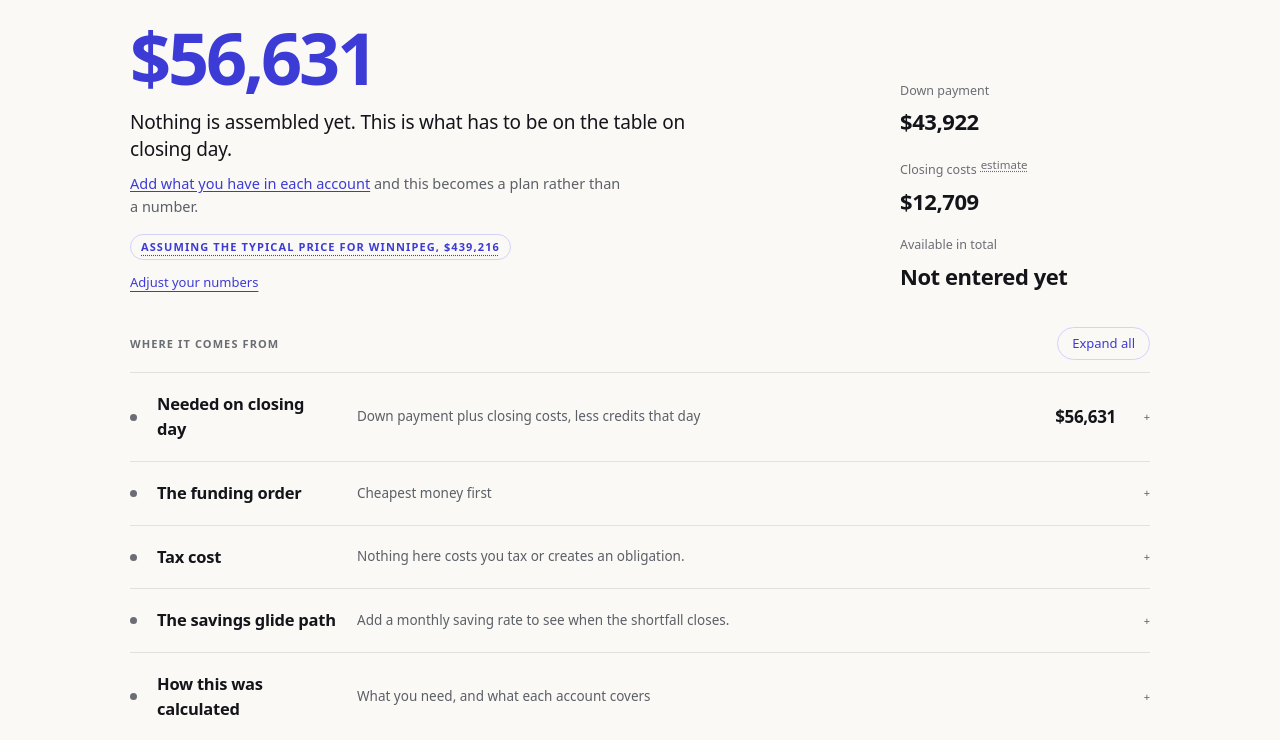
Scenario: Down payment — the waterfall › draws the free money first once balances are given
The image size is (1280, 740).
Click the button "The funding order Cheapest money first +".
click(229, 492)  # box top-left (130, 462), bottom-right (1150, 525)
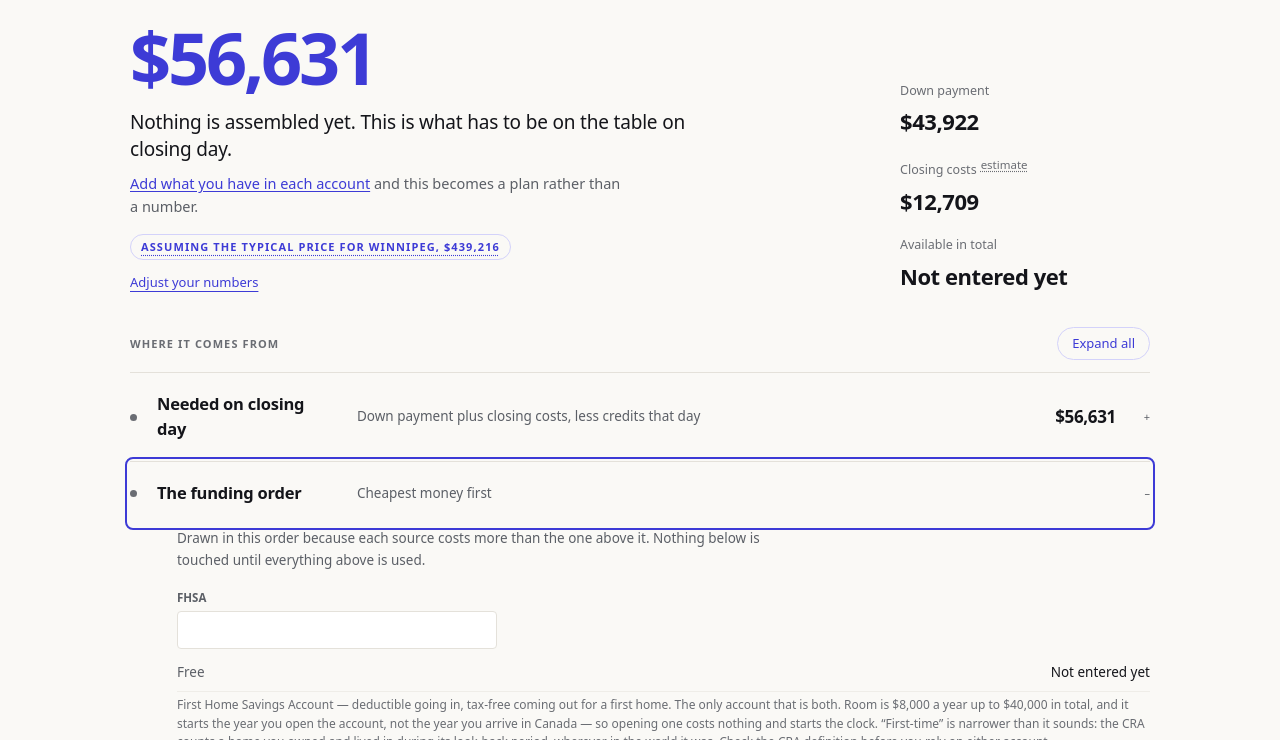
Type "40000" into the field labelled "FHSA".
click(337, 630); type("40000")  # box top-left (177, 610), bottom-right (497, 648)
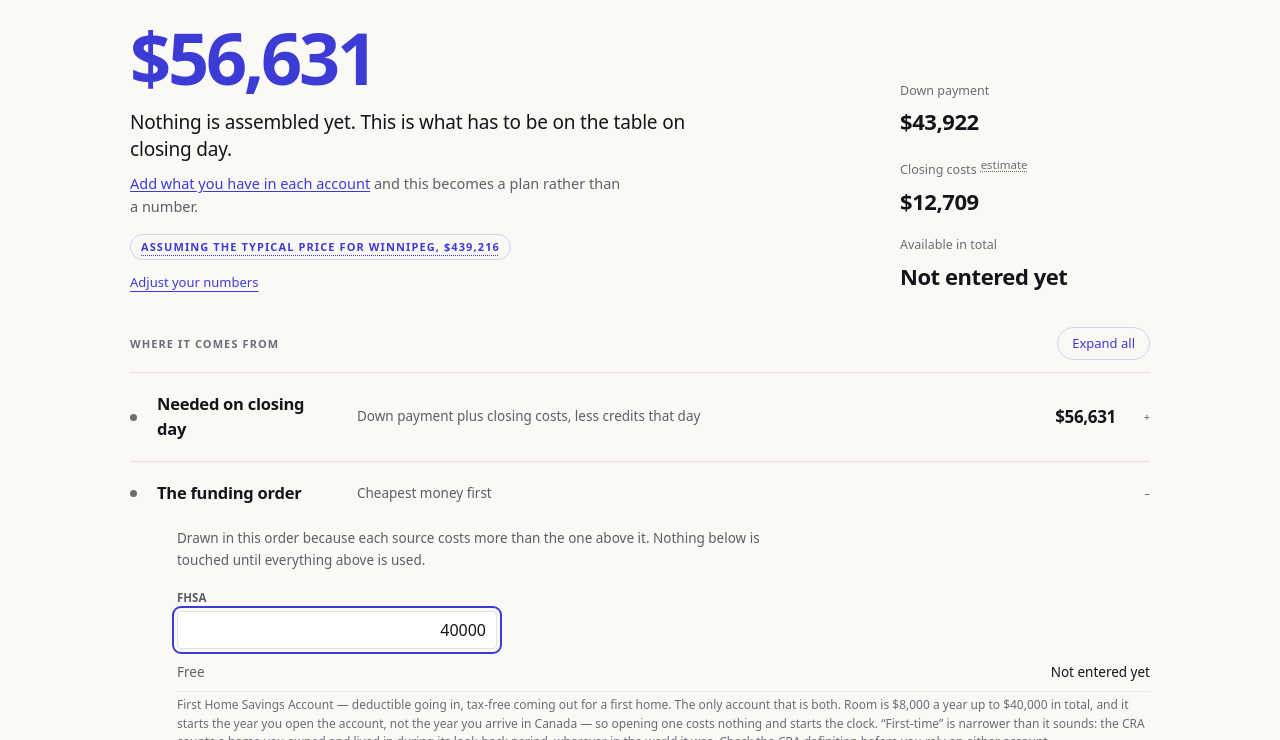
Press Tab
(page scrolled)
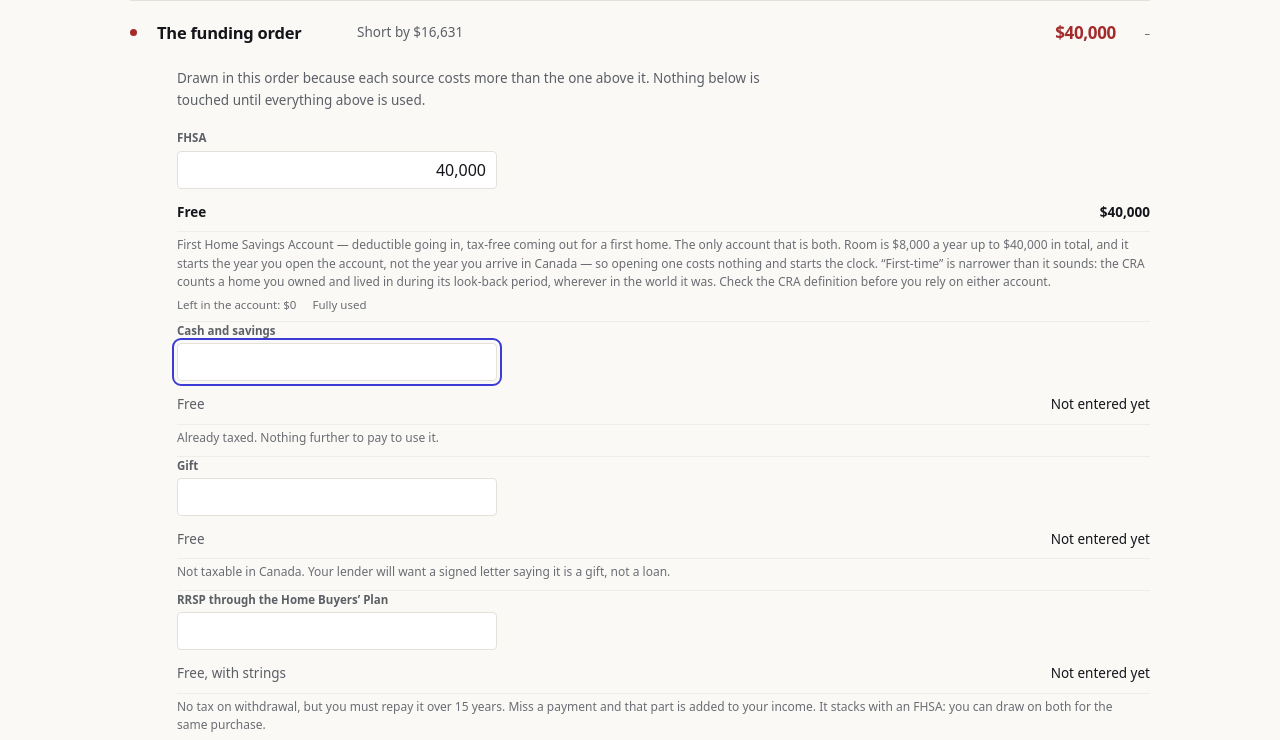
Check: the 1st text "Not entered yet" is shown, box top-left (1051, 394), bottom-right (1150, 415)
Check: the text "Left in the account: $0" is shown once, box top-left (177, 296), bottom-right (296, 313)
